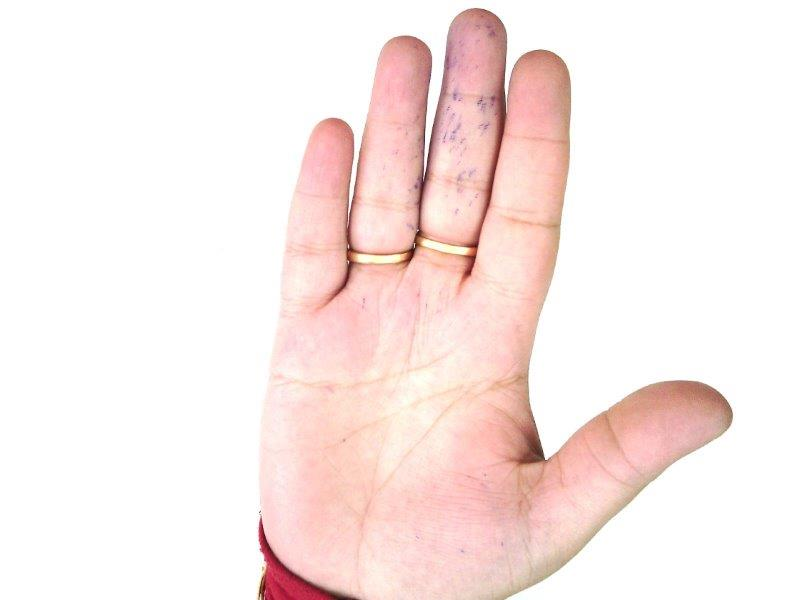hand: (259, 7, 735, 587)
